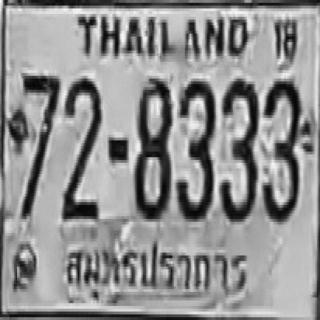N02: (61, 74, 100, 218)
N03: (261, 76, 302, 219), (176, 76, 214, 219), (220, 76, 257, 219)
N07: (20, 73, 59, 216)
N08: (133, 76, 170, 216)
P57: (62, 232, 250, 300)
